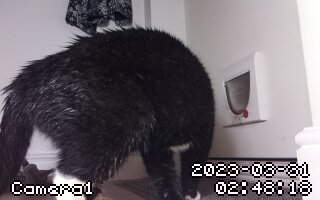bad: (5, 24, 222, 193)
